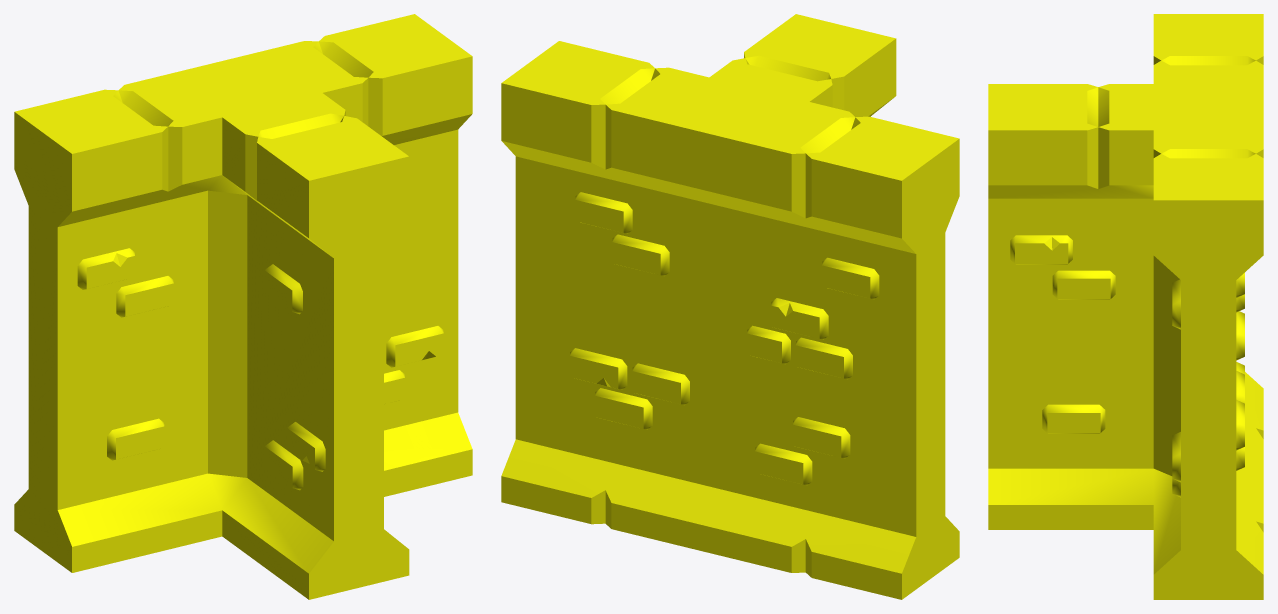
Rendered from kaykit-wall-tsplit.glb.
3 renders of one model, left to right at view 1: azimuth 30°, elevation 25°; view 2: azimuth 150°, elevation 25°; view 3: azimuth 270°, elevation 25°, orthographic. The views are drawn at different scales.
Visible parts, largest first — view 1: wall_Tsplit; view 2: wall_Tsplit; view 3: wall_Tsplit.
Boxes of the visible parts, box(x1,y1,x2,y2) form: wall_Tsplit: box(14, 14, 472, 599); wall_Tsplit: box(501, 14, 959, 599); wall_Tsplit: box(988, 14, 1263, 599).
Size of the model in its own units: 4 by 4 by 2.5.
